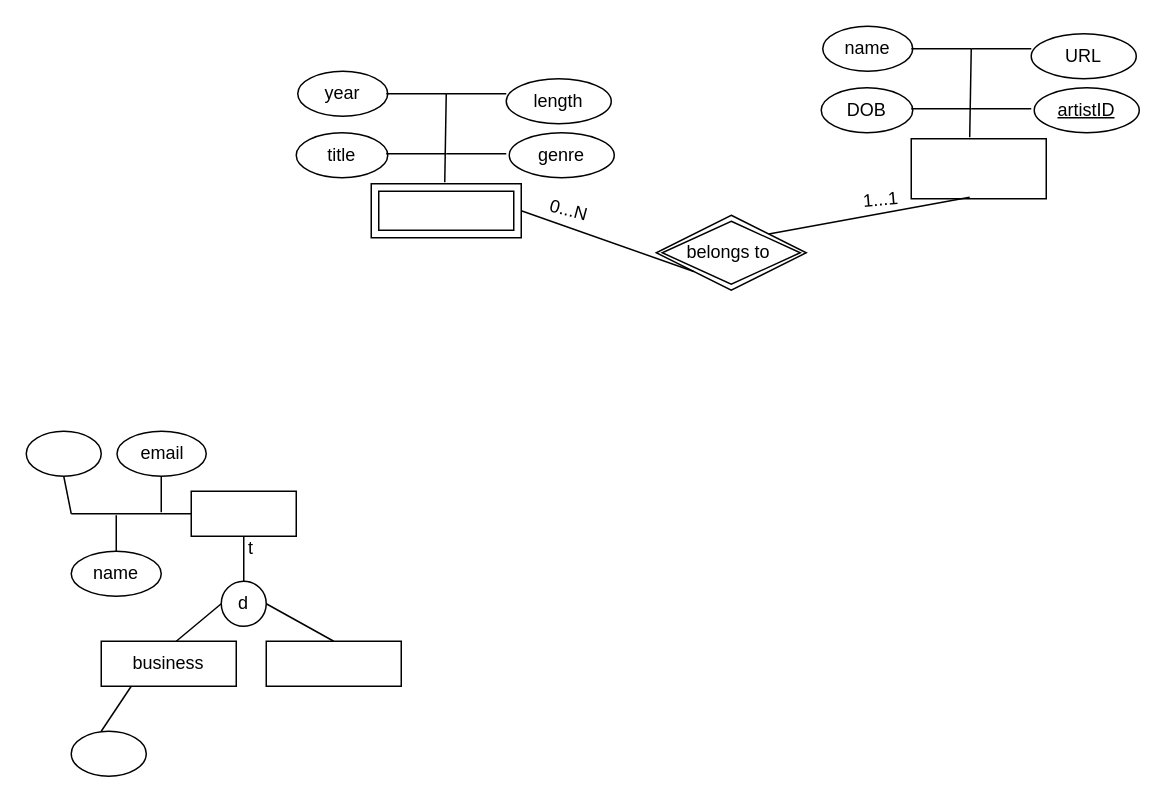
This 1166x803 diagram has some shape labels left out. The shapes that lost their labels are listed below. From the top down, each one's centre as x and y in pixels, then its label:
At pixel 978 168: "artist".
At pixel 445 210: "song".
At pixel 63 453: "ID".
At pixel 243 513: "users".
At pixel 333 663: "regular".
At pixel 108 753: "tax id".
